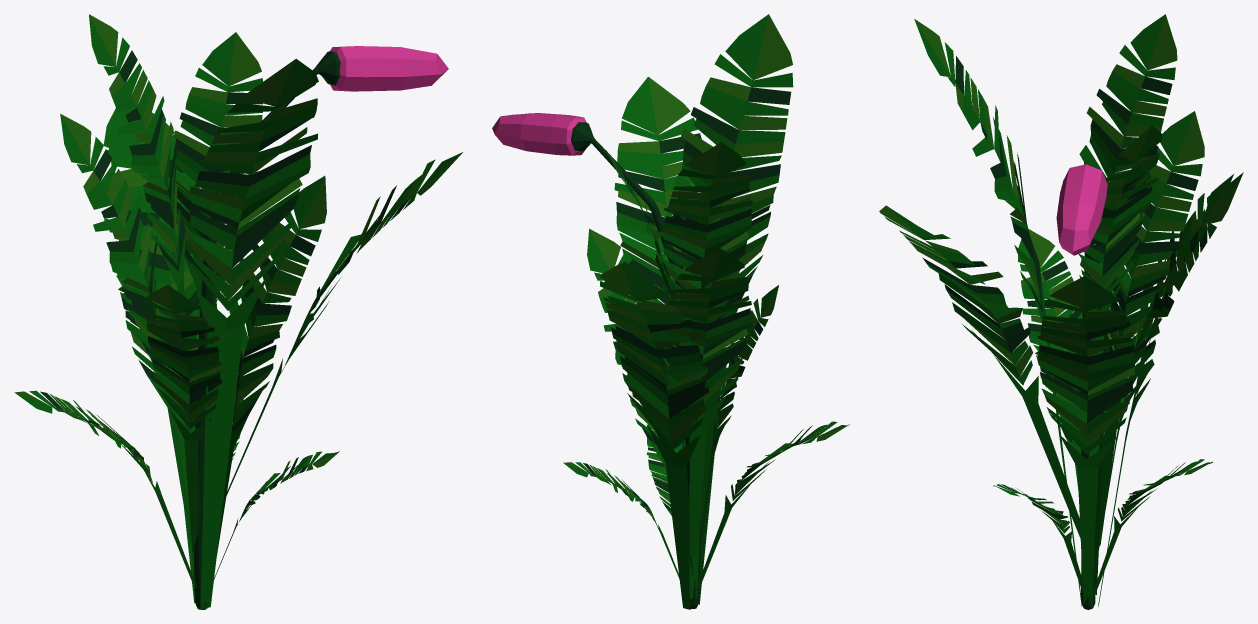
The model's file is lp_banan_2_Plane_002.obj.
3 renders of one model, left to right at view 1: azimuth 30°, elevation 25°; view 2: azimuth 150°, elevation 25°; view 3: azimuth 270°, elevation 25°, orthographic. The views are drawn at different scales.
Visible parts, largest first — view 1: lp_banan_2_Plane_002; view 2: lp_banan_2_Plane_002; view 3: lp_banan_2_Plane_002.
Part boxes in pixels (<box>): lp_banan_2_Plane_002: <box>14,14,462,609</box>; lp_banan_2_Plane_002: <box>492,14,849,609</box>; lp_banan_2_Plane_002: <box>879,14,1243,609</box>.
Bounding box in the file's own units: 7.2 × 10.02 × 5.59.
